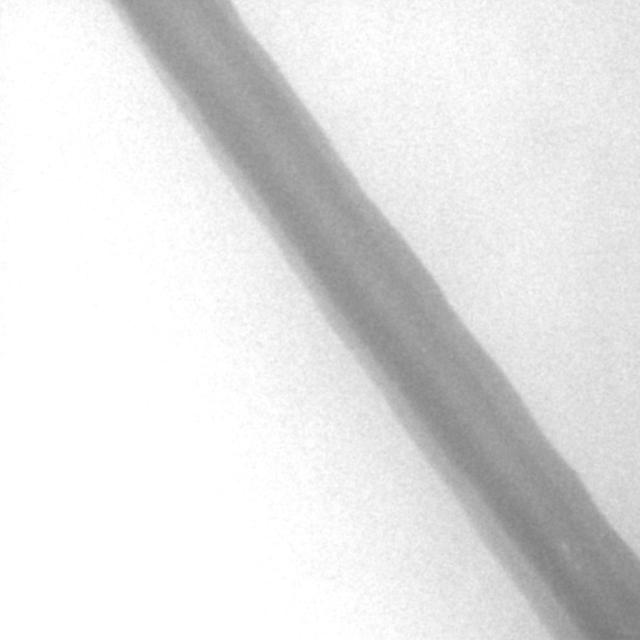air hole: (557, 540, 568, 552)
